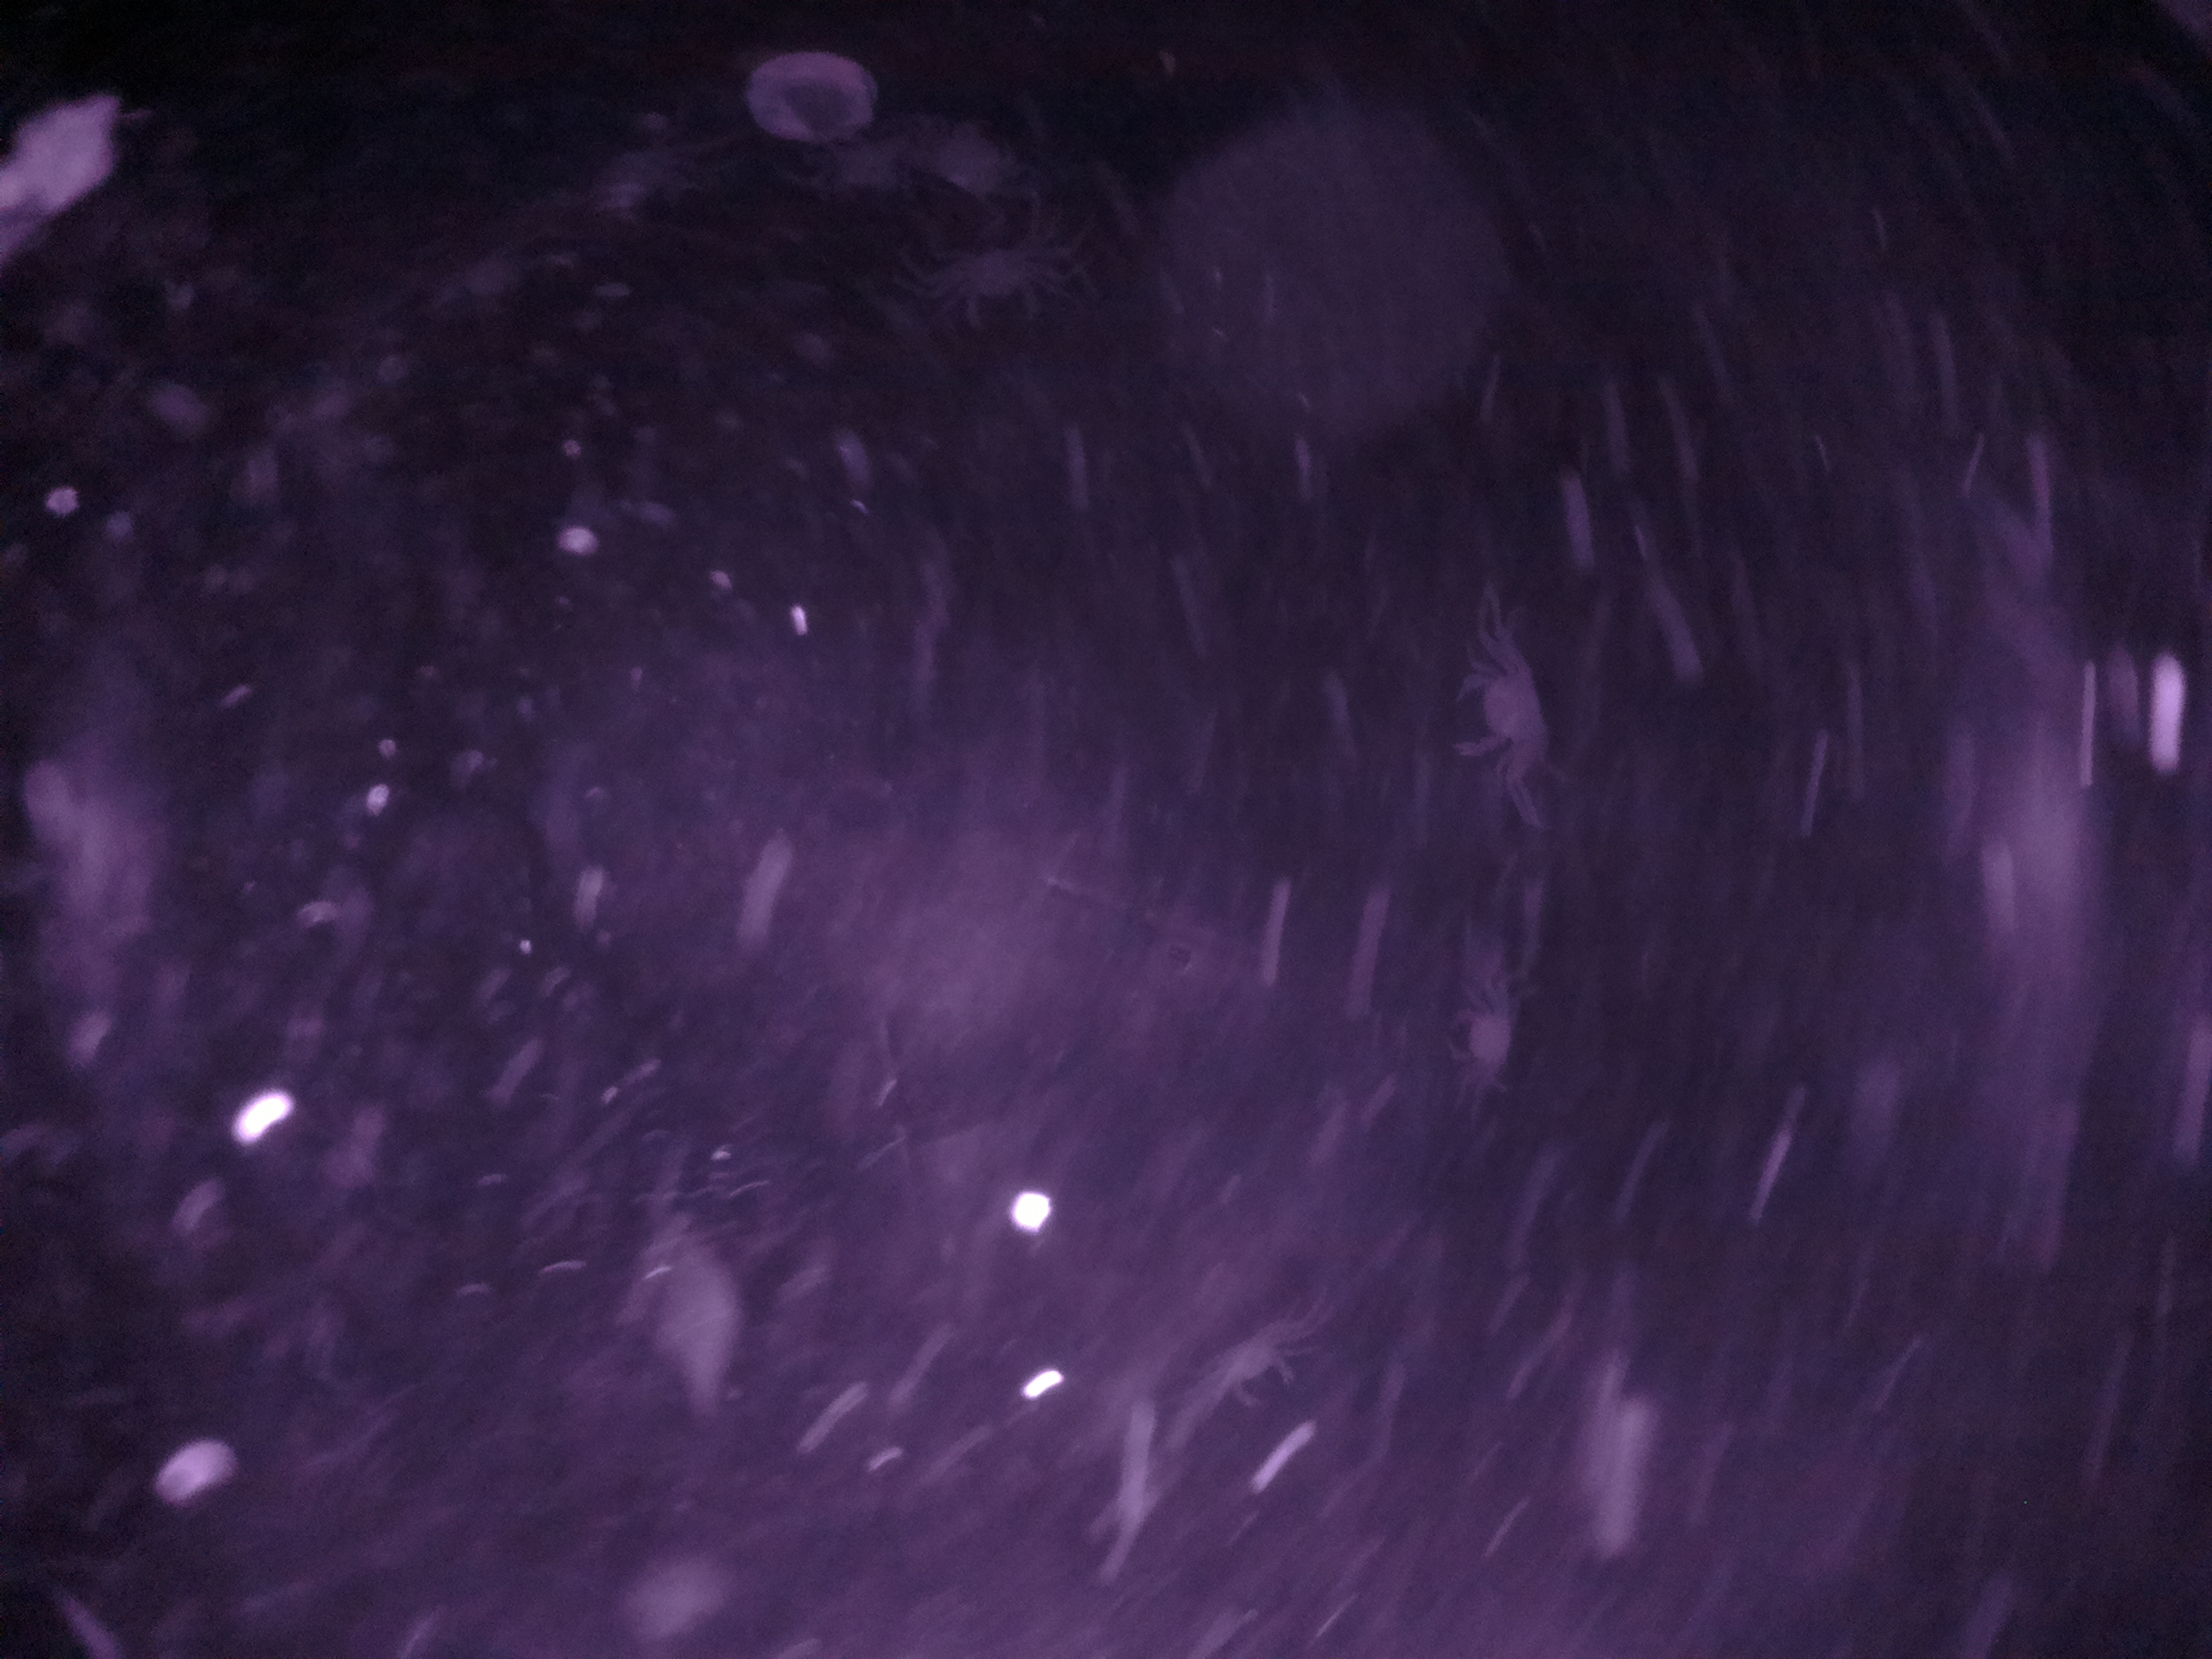Crab: (1437, 641, 1573, 786), (935, 225, 1054, 361), (1204, 1310, 1306, 1427), (1432, 997, 1536, 1086)
